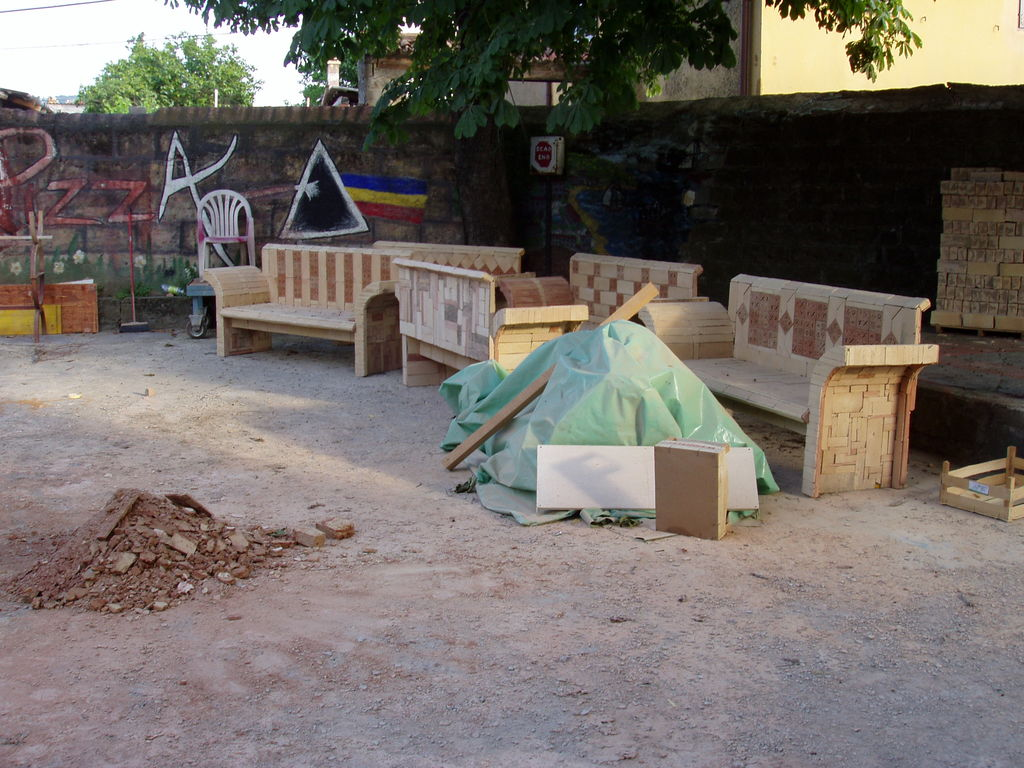Tree: (164, 0, 922, 149), (75, 33, 266, 112)
